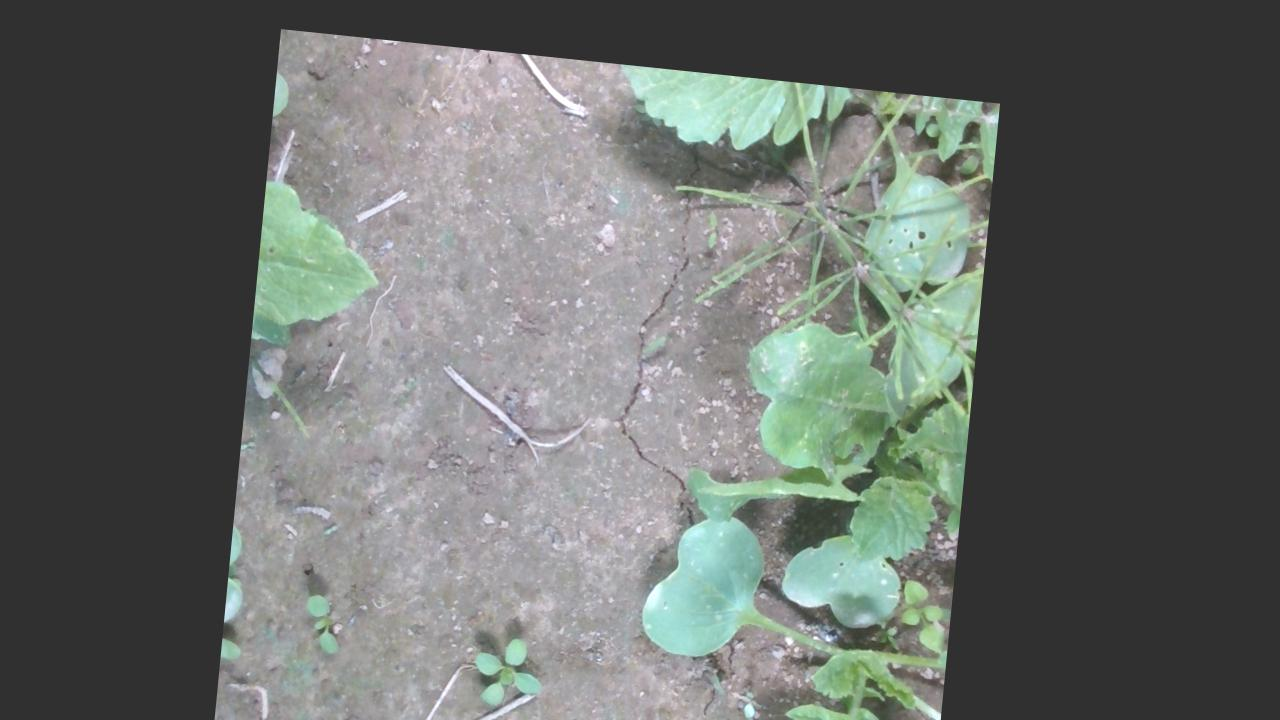weed: (312, 580, 357, 650)
